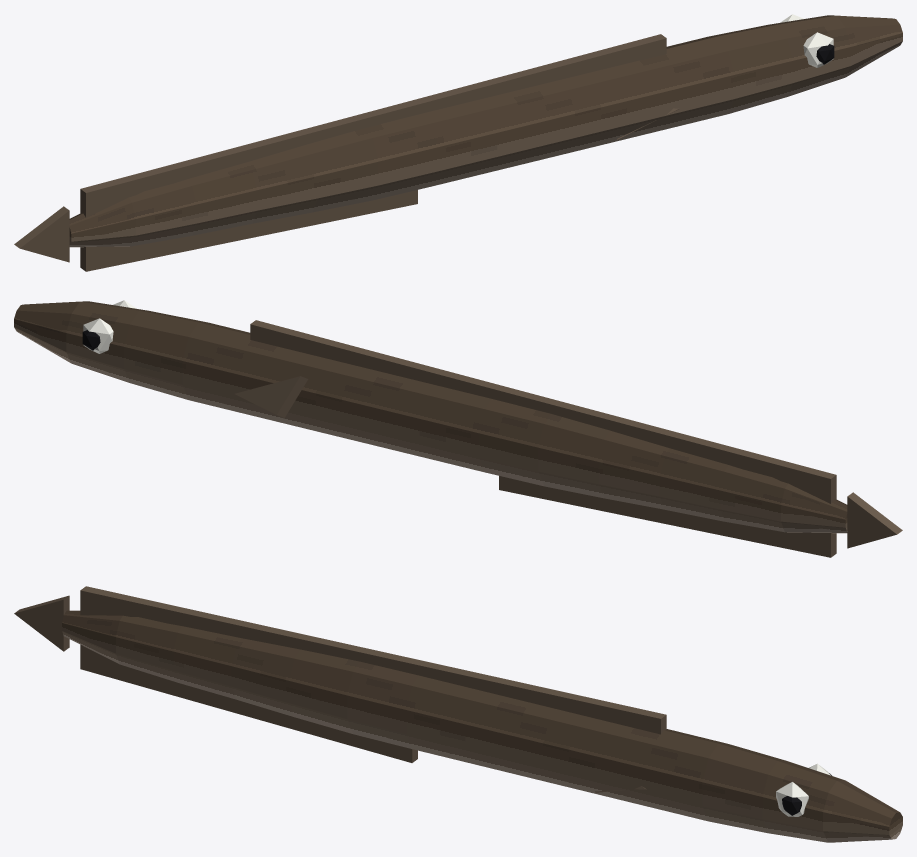
Rendered from frilled_shark.glb.
The picture shows the model from 3 angles, top to bottom: view 1: azimuth 30°, elevation 25°; view 2: azimuth 150°, elevation 25°; view 3: azimuth 330°, elevation 25°; orthographic projection.
Parts seen in each view (by area): view 1: fish_frilled_shark; view 2: fish_frilled_shark; view 3: fish_frilled_shark.
Boxes of the visible parts, x1,y1,x2,y2 form: fish_frilled_shark: (14,14,902,271); fish_frilled_shark: (14,300,902,557); fish_frilled_shark: (14,586,902,842).
Size of the model in its own units: 1.06 by 0.121 by 0.1047.
4 materials, 1 textured.
